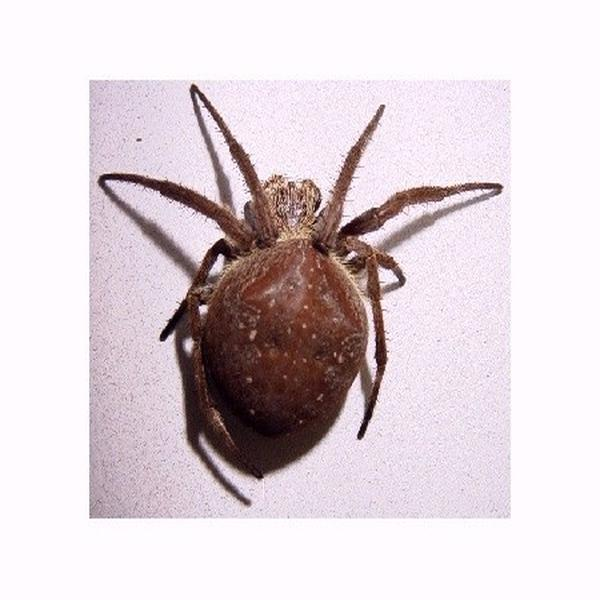Garden Orb Weaver Spider: (122, 91, 488, 479)
